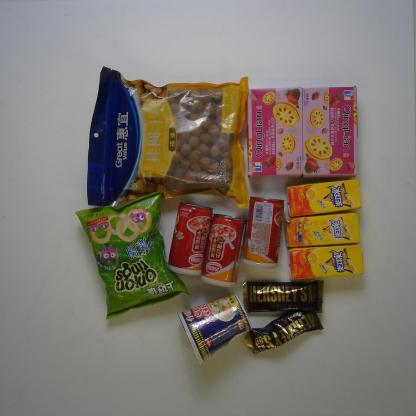Canned Food: (162, 201, 217, 281), (201, 210, 250, 294), (237, 190, 286, 271)
Chocolate: (244, 305, 324, 360), (238, 276, 329, 315)
Dessert: (294, 85, 366, 181), (244, 80, 307, 180)
Dried Food: (80, 64, 261, 212)
Drink: (286, 239, 372, 281), (284, 177, 363, 216), (280, 212, 360, 248)
Instant Noodles: (168, 293, 253, 364)
Puffed Food: (73, 199, 183, 321)
